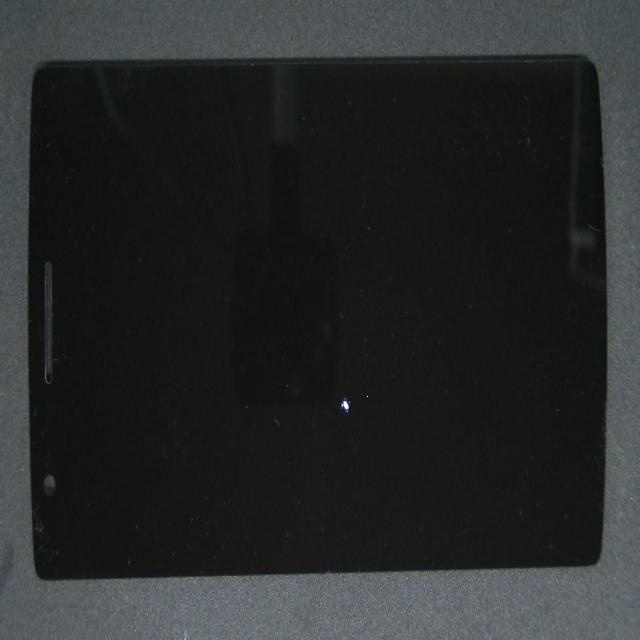stain: (144, 225, 513, 628)
